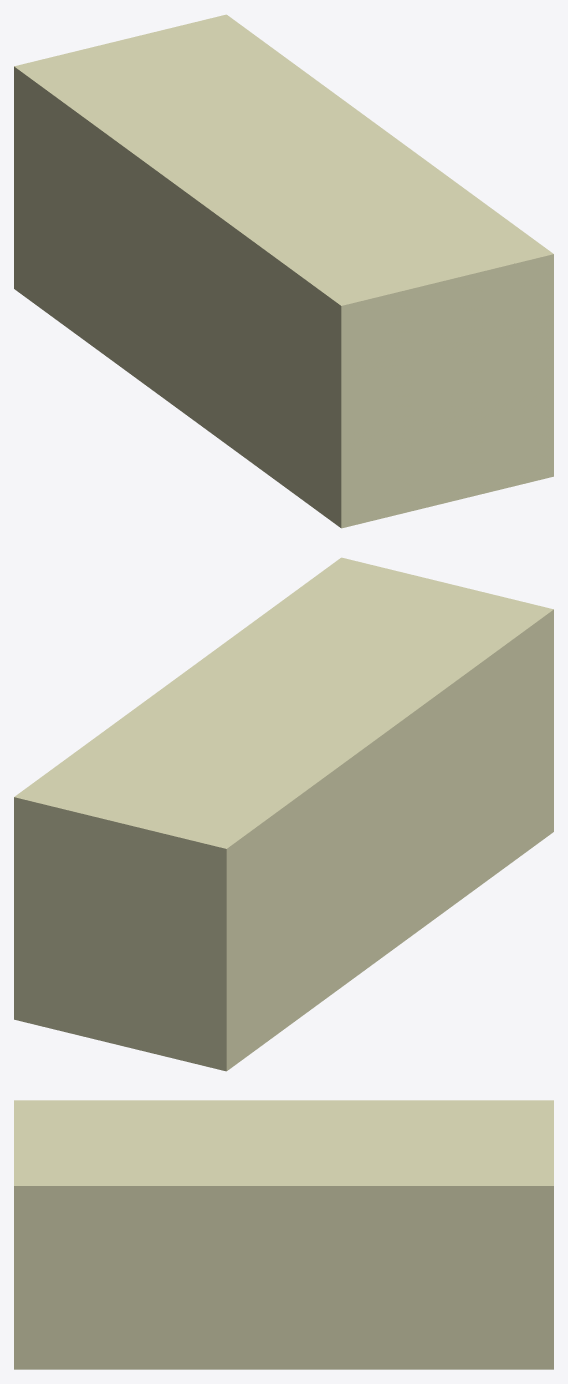
The model's file is cornell_aligned.dae.
3 renders of one model, top to bottom at view 1: azimuth 30°, elevation 25°; view 2: azimuth 150°, elevation 25°; view 3: azimuth 270°, elevation 25°, orthographic. The views are drawn at different scales.
Parts seen in each view (by area): view 1: Plane_061_016, Plane_061_017, Plane_061_018, Plane_061_022, Plane_061_023, Plane_061_019, Plane_061_021, Plane_061_024, Plane_061_020, Plane_046_008, Plane_046_007, Plane_046_011 (+45 smaller); view 2: Plane_038, Plane_043, Plane_037, Plane_035, Plane_040, Plane_042, Plane_036, Plane_041, Plane_039, Plane_047, Plane_048, Plane_051 (+45 smaller); view 3: Plane_023, Plane_024, Plane_028, Plane_030, Plane_033, Plane_034_001, Plane_034_003, Plane_034_005, Plane_034_007, Plane_034_008, Plane_034_010, Plane_034_011 (+36 smaller).
Part boxes in pixels (x1,y1,x2,y2): Plane_061_016: (341, 289, 412, 379); Plane_061_017: (341, 363, 412, 454); Plane_061_018: (341, 437, 412, 528); Plane_061_022: (483, 402, 553, 493); Plane_061_023: (483, 328, 553, 419); Plane_061_019: (412, 271, 482, 362); Plane_061_021: (412, 420, 482, 510); Plane_061_024: (483, 254, 553, 345); Plane_061_020: (412, 345, 482, 436); Plane_046_008: (218, 290, 259, 394); Plane_046_007: (259, 320, 300, 423); Plane_046_011: (300, 424, 341, 527); Plane_038: (155, 906, 226, 997); Plane_043: (155, 832, 226, 922); Plane_037: (155, 980, 226, 1071); Plane_035: (14, 945, 84, 1036); Plane_040: (14, 871, 84, 962); Plane_042: (85, 814, 155, 905); Plane_036: (85, 963, 155, 1053); Plane_041: (14, 797, 84, 888); Plane_039: (85, 888, 155, 979); Plane_047: (308, 833, 349, 937); Plane_048: (267, 863, 308, 966); Plane_051: (226, 967, 267, 1070); Plane_023: (419, 1308, 486, 1369); Plane_024: (486, 1308, 553, 1369); Plane_028: (351, 1308, 418, 1369); Plane_030: (419, 1247, 486, 1308); Plane_033: (419, 1186, 486, 1247); Plane_034_001: (284, 1186, 351, 1247); Plane_034_003: (149, 1186, 216, 1247); Plane_034_005: (14, 1186, 81, 1247); Plane_034_007: (149, 1247, 216, 1308); Plane_034_008: (14, 1247, 81, 1308); Plane_034_010: (284, 1247, 351, 1308); Plane_034_011: (284, 1308, 351, 1369).
Size of the model in its own units: 4.97 by 13.25 by 4.97.
